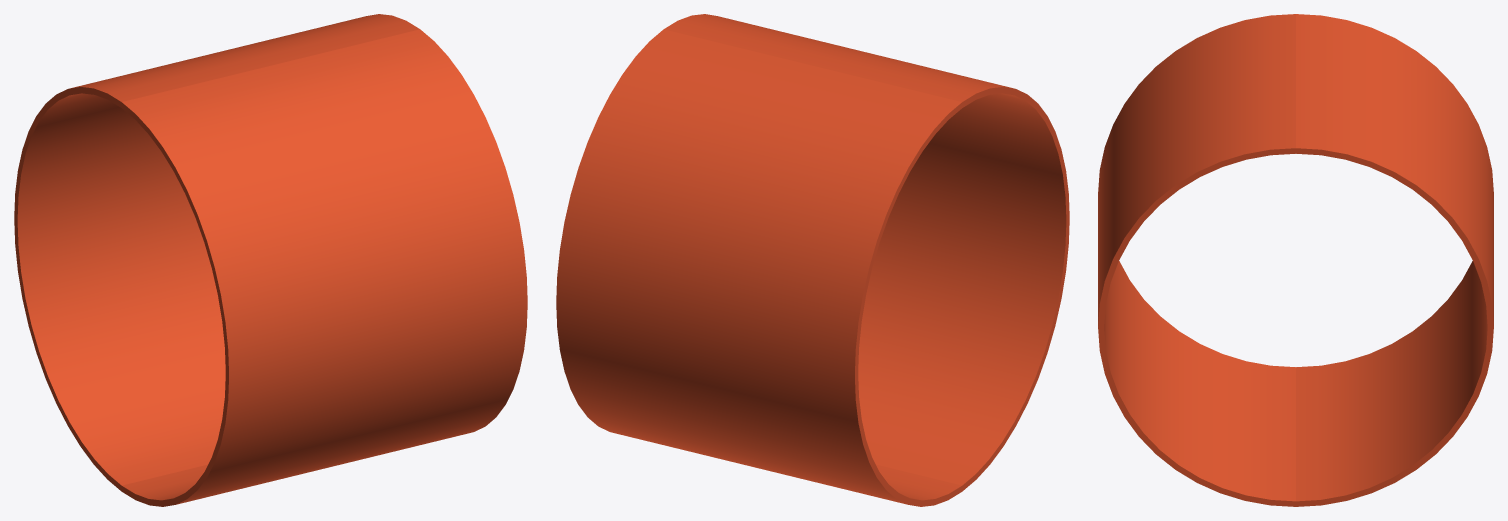
File: coalescer_pressure.glb
3 renders of one model, left to right at view 1: azimuth 30°, elevation 25°; view 2: azimuth 150°, elevation 25°; view 3: azimuth 270°, elevation 25°, orthographic. The views are drawn at different scales.
Visible parts, largest first — view 1: cz__front, cz__back; view 2: cz__back, cz__front; view 3: cz__back, cz__front.
Boxes of the visible parts, box(x1,y1,x2,y2) form: cz__front: box(121, 29, 527, 506); cz__back: box(14, 14, 419, 491); cz__back: box(556, 29, 962, 506); cz__front: box(664, 14, 1069, 491); cz__back: box(1296, 14, 1493, 506); cz__front: box(1098, 14, 1295, 506).
Size of the model in its own units: 0.77 by 0.96 by 0.96.
